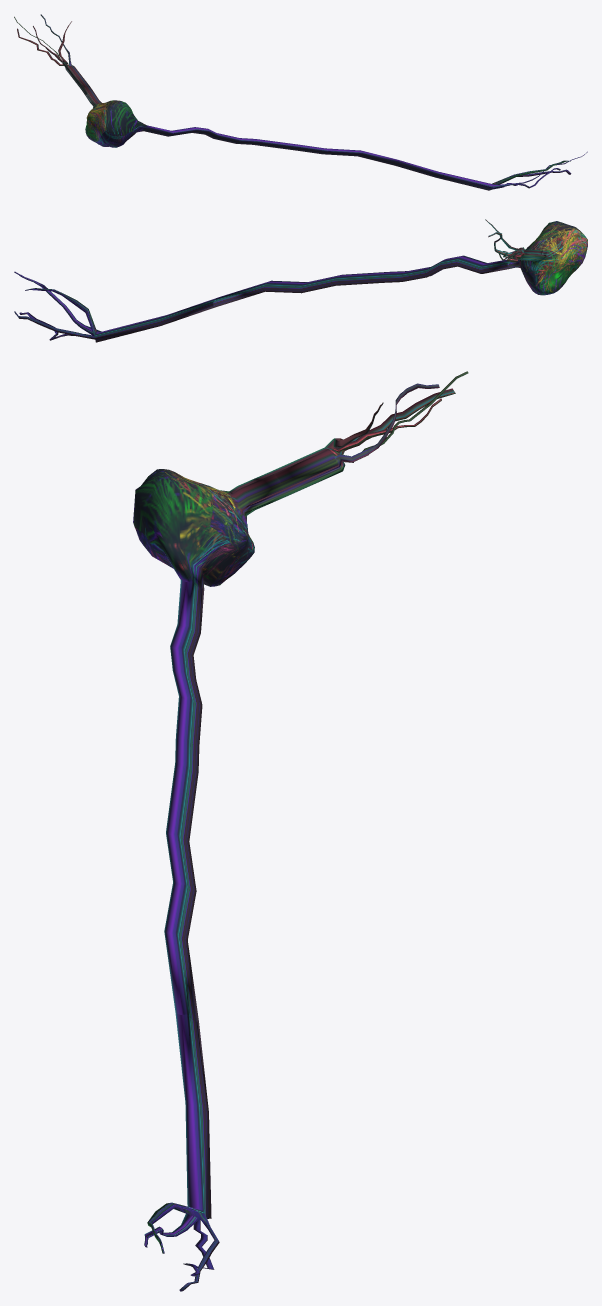
File: neuron3.fbx
3 renders of one model, top to bottom at view 1: azimuth 30°, elevation 25°; view 2: azimuth 150°, elevation 25°; view 3: azimuth 270°, elevation 25°, orthographic. The views are drawn at different scales.
Visible parts, largest first — view 1: done 4 ex; view 2: done 4 ex; view 3: done 4 ex.
Part boxes in pixels (x1,y1,x2,y2): done 4 ex: (14,14,587,190); done 4 ex: (14,219,587,342); done 4 ex: (133,371,468,1291).
Size of the model in its own units: 22616 by 10174 by 6609.
